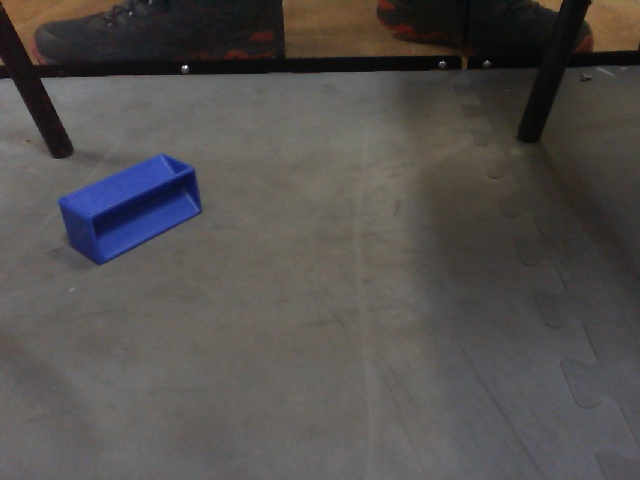BlueSample: (55, 150, 203, 268)
